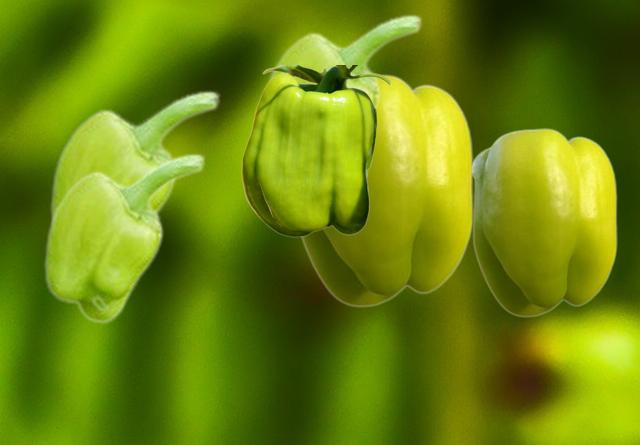bell_pepper: (300, 73, 472, 306), (43, 152, 205, 323), (472, 127, 616, 316), (241, 65, 390, 236), (49, 89, 220, 218), (263, 13, 422, 115)
